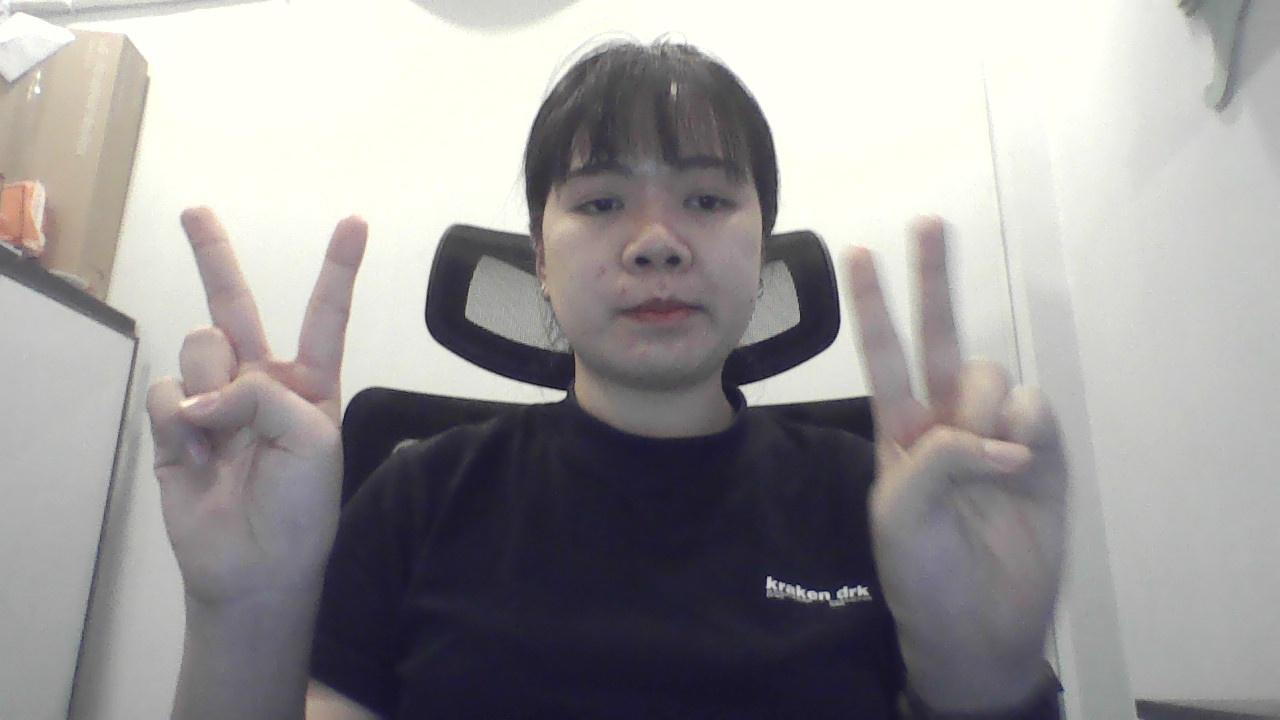V: (817, 185, 1116, 694), (135, 187, 370, 648)
